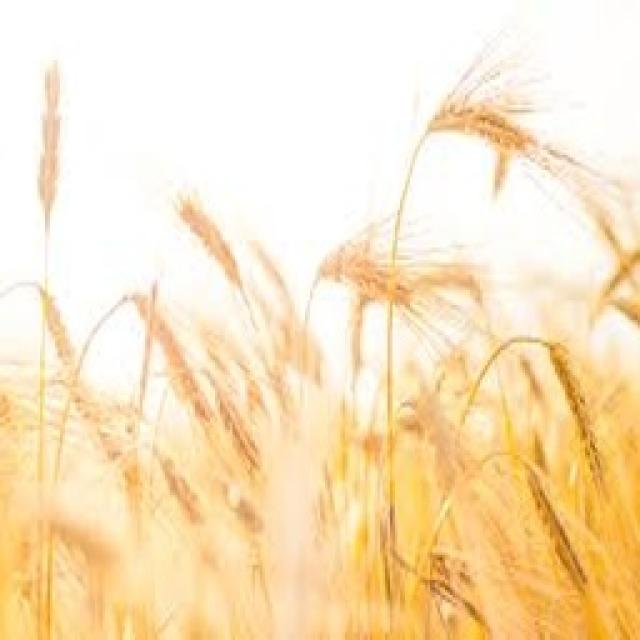Healthy Wheat: (0, 28, 638, 638)
